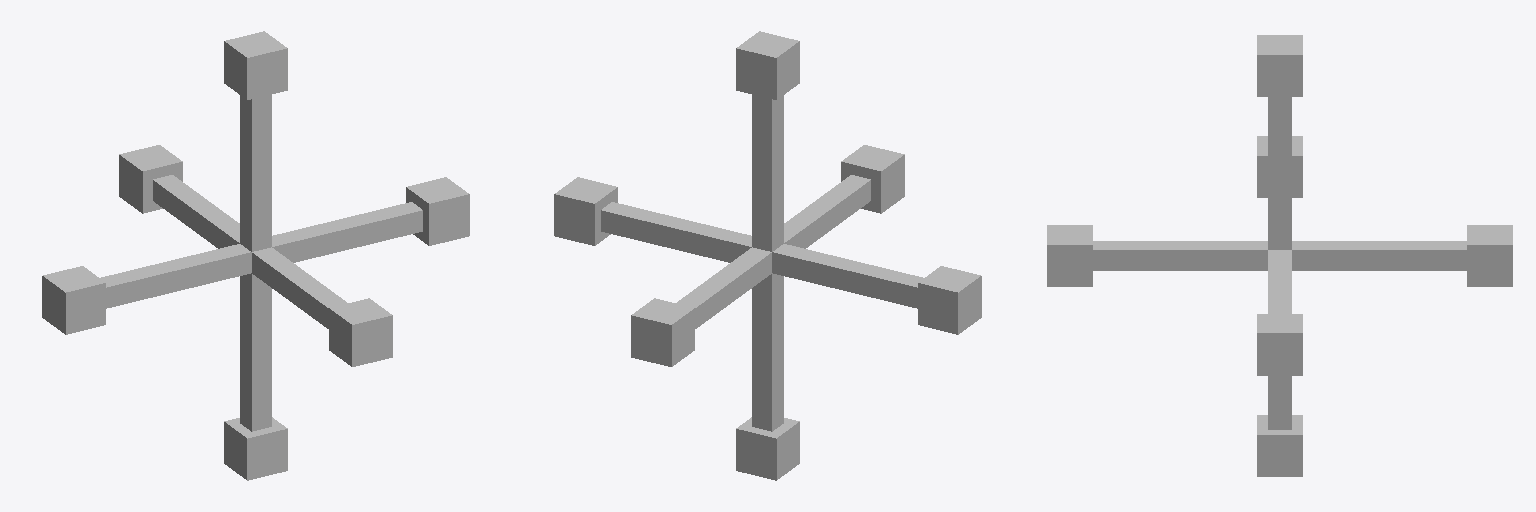
File: scale.obj
3 renders of one model, left to right at view 1: azimuth 30°, elevation 25°; view 2: azimuth 150°, elevation 25°; view 3: azimuth 270°, elevation 25°, orthographic.
Visible parts, largest first — view 1: obj_0; view 2: obj_0; view 3: obj_0.
Part boxes in pixels (x1,y1,x2,y2): obj_0: (42,31,469,480); obj_0: (554,31,981,480); obj_0: (1047,35,1512,476).
Size of the model in its own units: 100 by 100 by 100.